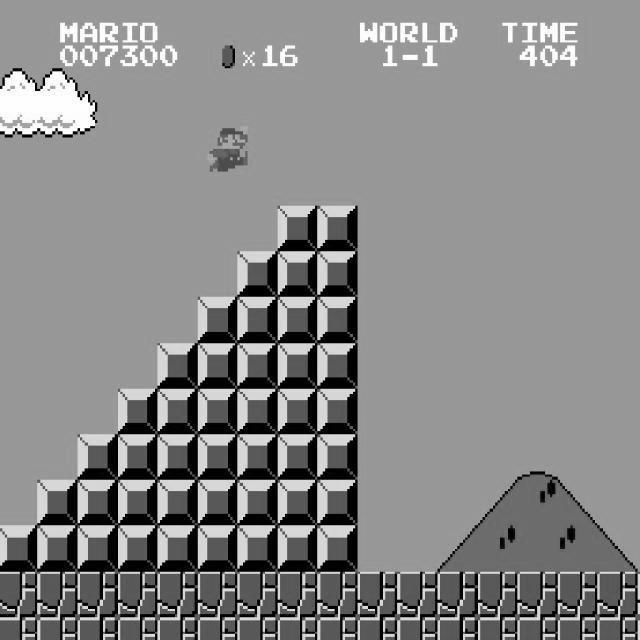11- little_mario: (205, 123, 248, 172)
17- undestructible_block: (37, 572, 78, 618), (77, 572, 118, 618), (117, 572, 158, 618), (157, 572, 198, 618), (197, 572, 238, 618), (237, 572, 278, 618), (277, 572, 318, 618), (317, 572, 358, 618), (357, 572, 398, 618), (397, 572, 438, 618), (437, 572, 478, 618), (477, 572, 518, 618), (517, 572, 558, 618), (557, 572, 598, 618), (597, 572, 638, 618), (0, 572, 37, 618), (37, 617, 78, 640), (77, 617, 118, 640), (117, 617, 158, 640), (157, 617, 198, 640), (197, 617, 238, 640), (237, 617, 278, 640), (277, 617, 318, 640), (317, 617, 358, 640), (357, 617, 398, 640), (397, 617, 438, 640), (437, 617, 478, 640), (477, 617, 518, 640), (517, 617, 558, 640), (557, 617, 598, 640), (597, 617, 638, 640), (0, 617, 37, 640), (637, 571, 640, 617), (637, 617, 640, 639)
9- hard_block: (37, 480, 78, 526), (37, 526, 78, 572), (77, 434, 118, 480), (77, 480, 118, 526), (77, 526, 118, 572), (117, 388, 158, 434), (117, 434, 158, 480), (117, 480, 158, 526), (117, 526, 158, 572), (157, 388, 198, 434), (157, 434, 198, 480), (157, 480, 198, 526), (157, 526, 198, 572), (197, 297, 238, 343), (197, 388, 238, 434), (197, 434, 238, 480), (197, 480, 238, 526), (197, 526, 238, 572), (237, 252, 278, 298), (237, 297, 278, 343), (237, 388, 278, 434), (237, 434, 278, 480), (237, 480, 278, 526), (237, 526, 278, 572), (277, 252, 318, 298), (277, 297, 318, 343), (277, 388, 318, 434), (277, 434, 318, 480), (277, 480, 318, 526), (277, 526, 318, 572), (317, 252, 358, 298), (317, 297, 358, 343), (317, 388, 358, 434), (317, 434, 358, 480), (317, 480, 358, 526), (317, 526, 358, 572), (157, 343, 198, 388), (197, 343, 238, 388), (237, 343, 278, 388), (277, 206, 318, 251), (277, 343, 318, 388), (317, 206, 358, 251), (317, 343, 358, 388), (0, 526, 37, 572)
